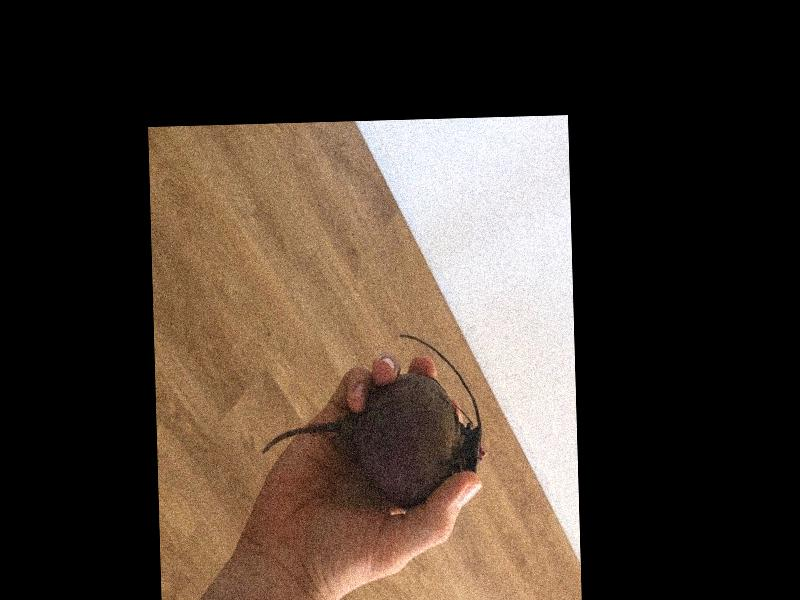Beet: (260, 329, 488, 512)
